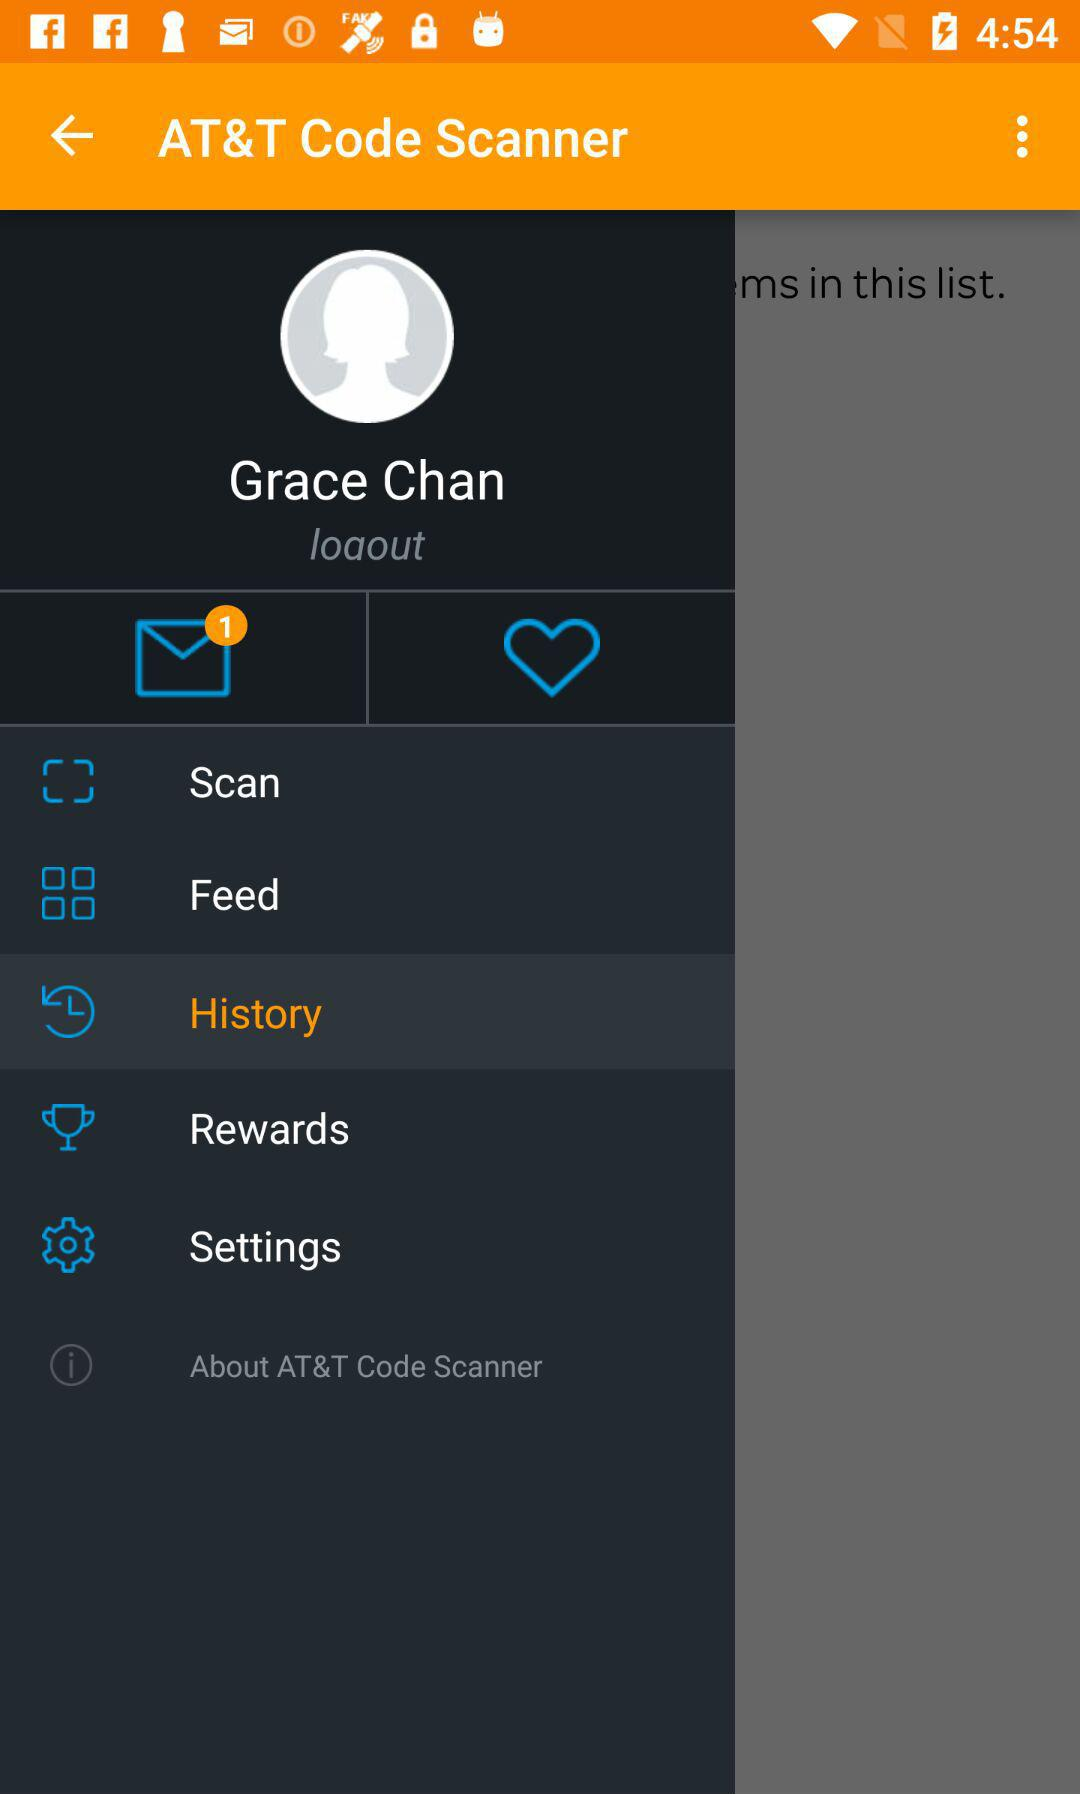Drawer: (1, 211, 735, 1794)
Icon: (281, 249, 456, 425), (135, 604, 250, 700), (503, 618, 602, 700), (41, 1216, 97, 1275), (41, 983, 97, 1041), (41, 866, 97, 923), (50, 111, 96, 160), (49, 1343, 94, 1388), (1013, 114, 1030, 161)
Image: (41, 1103, 97, 1153), (42, 759, 96, 806)
Text: (156, 117, 632, 161), (231, 459, 505, 504), (190, 1353, 544, 1380), (190, 1229, 342, 1272), (191, 996, 324, 1039), (191, 1112, 350, 1146), (310, 528, 427, 563), (191, 876, 281, 912), (190, 765, 281, 800)
Toolbar: (1, 64, 1080, 211)
UpperTaskBar: (1, 1, 1080, 64)
